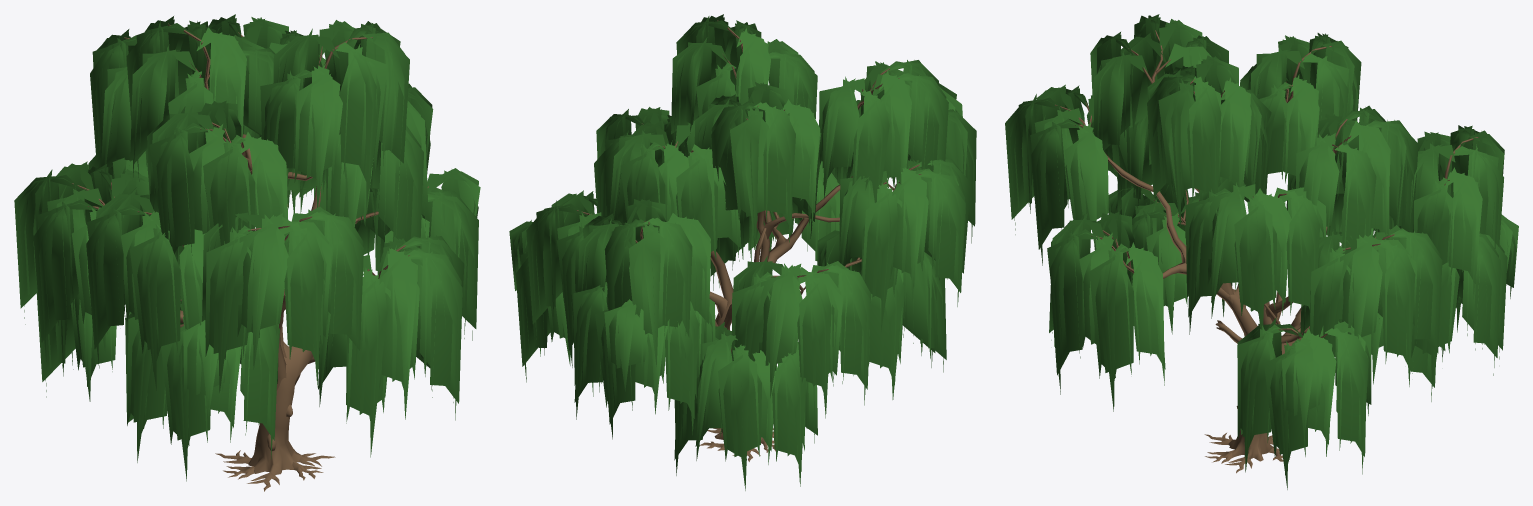
Rendered from Willow_A.obj.
3 views of the same model, side by side, from view 1: azimuth 30°, elevation 25°; view 2: azimuth 150°, elevation 25°; view 3: azimuth 270°, elevation 25° (orthographic). The views are drawn at different scales.
Visible parts, largest first — view 1: Leaves, Trunk; view 2: Leaves, Trunk; view 3: Leaves, Trunk.
Part boxes in pixels (bbox=[...]): Leaves: bbox=[14, 14, 480, 481]; Trunk: bbox=[71, 23, 428, 491]; Leaves: bbox=[509, 14, 976, 490]; Trunk: bbox=[576, 20, 921, 461]; Leaves: bbox=[1005, 14, 1518, 489]; Trunk: bbox=[1055, 30, 1478, 473].
Size of the model in its own units: 46.05 by 42.92 by 49.98.
